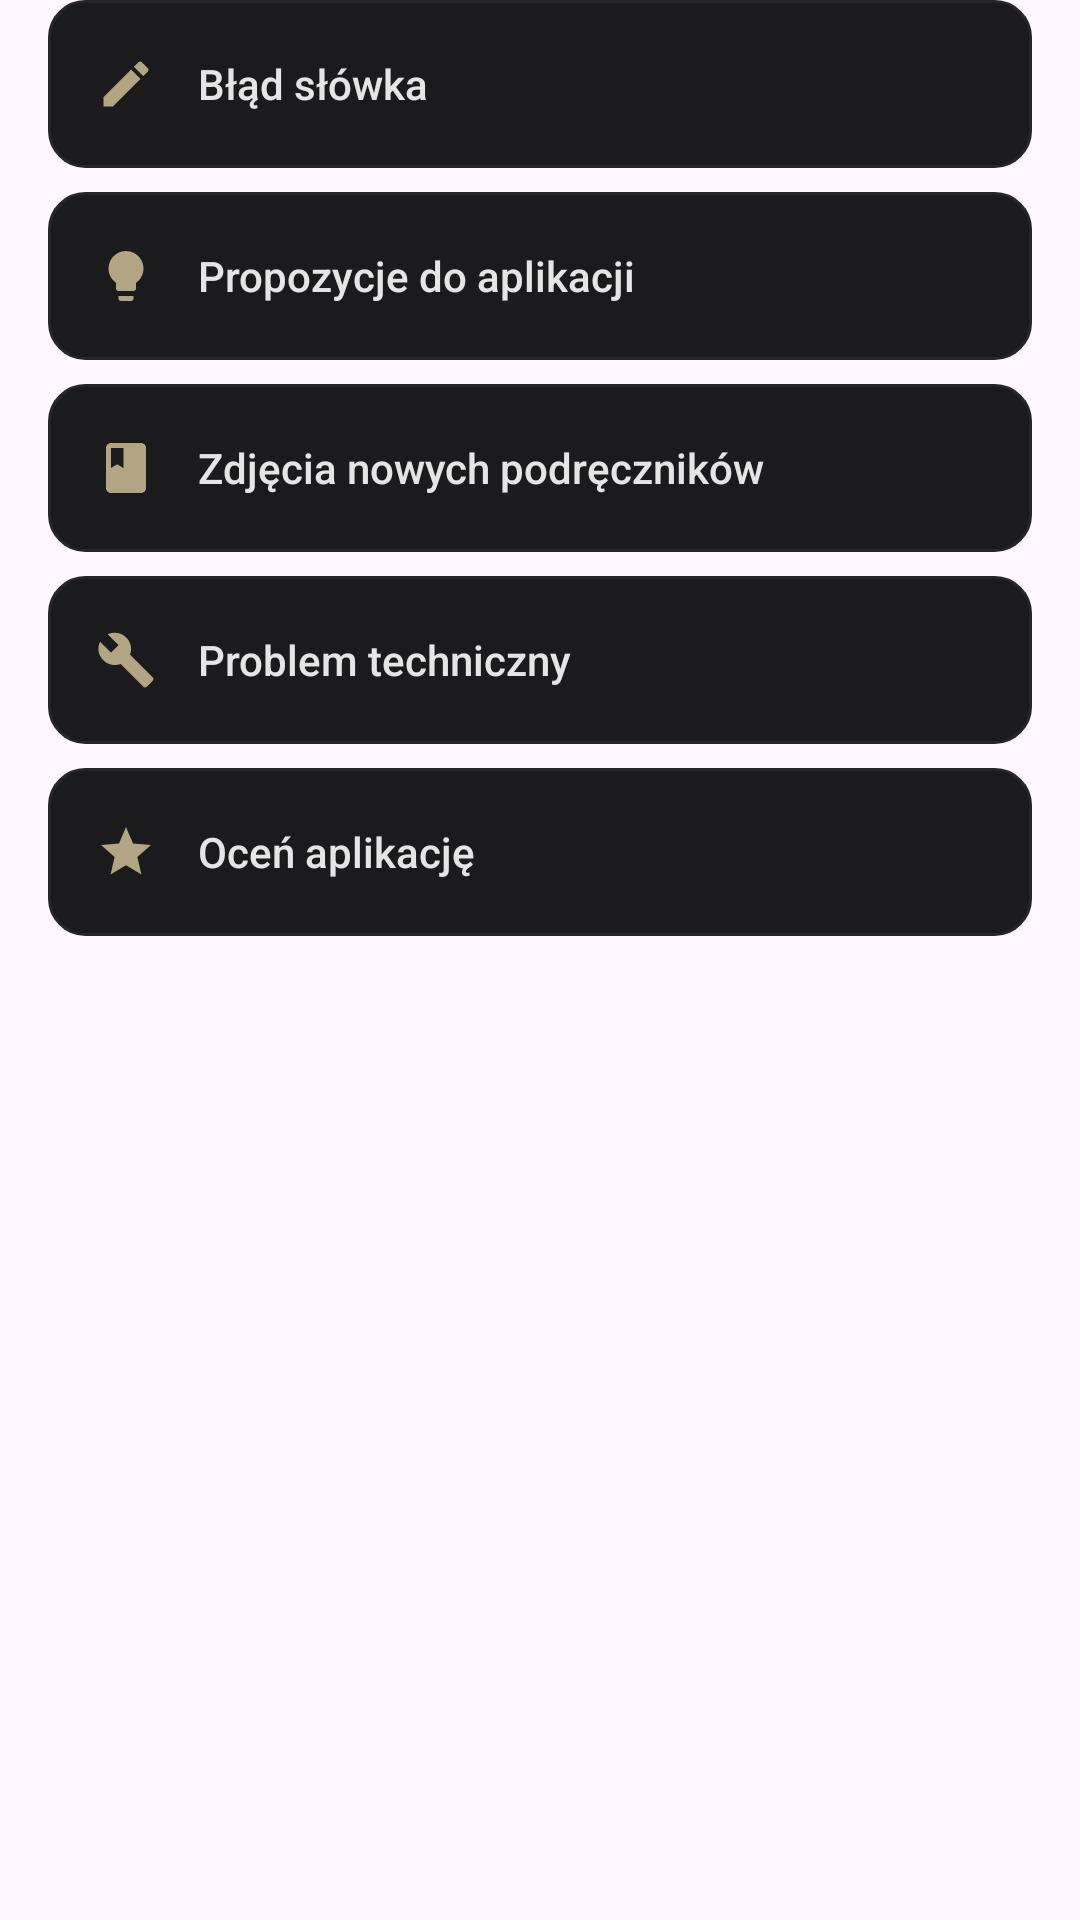

Icons on this 1080px x 1920px Android screen, each with the point to tap as (x=x, y=y):
feedback book: (x=126, y=468)
feedback star: (x=126, y=850)
feedback suggestion: (x=126, y=276)
feedback tech: (x=126, y=660)
feedback word: (x=126, y=84)
